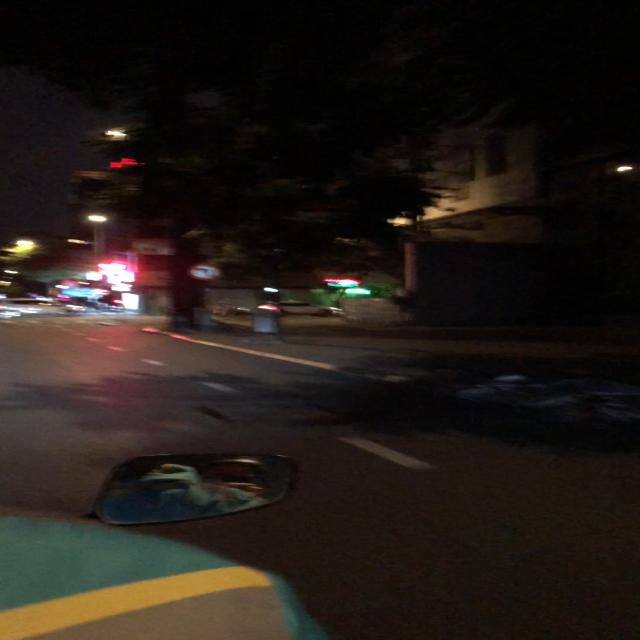Bien bao cam re trai: (185, 260, 222, 281)
